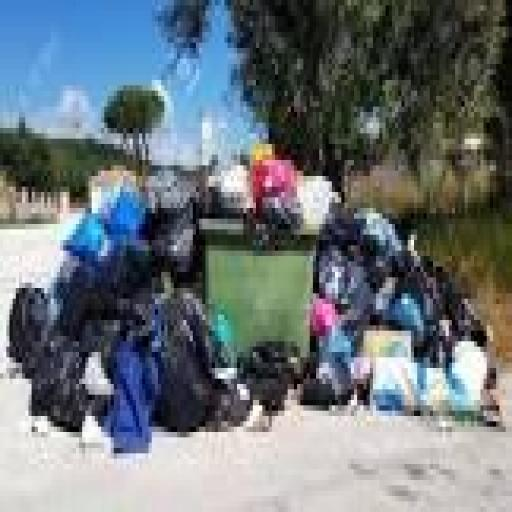poubelle_pleine: (186, 129, 348, 398)
